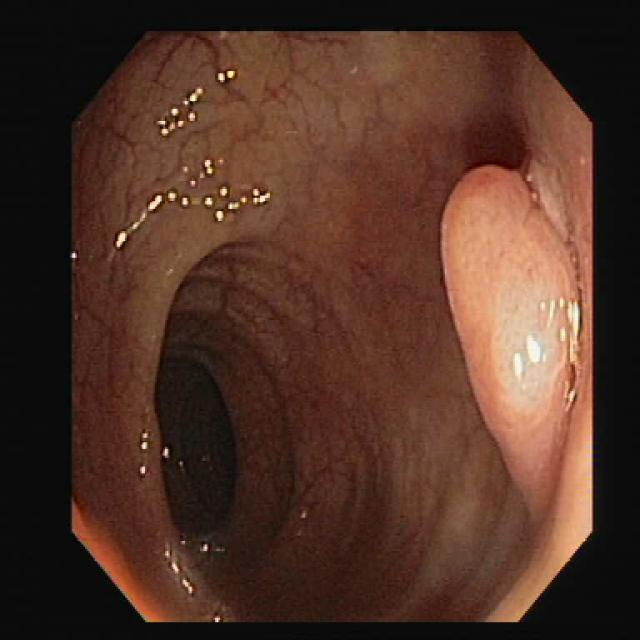tumor: (442, 169, 590, 516)
